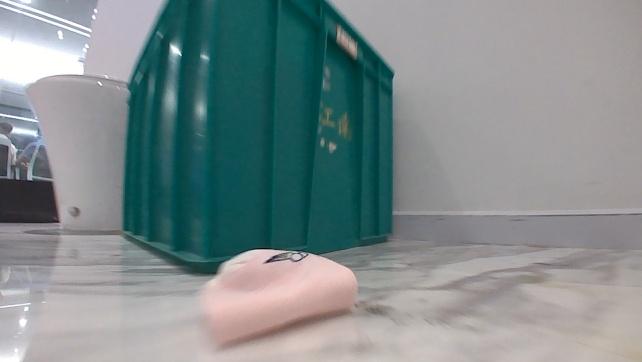socks: (188, 245, 358, 349)
toilet: (20, 69, 129, 235)
